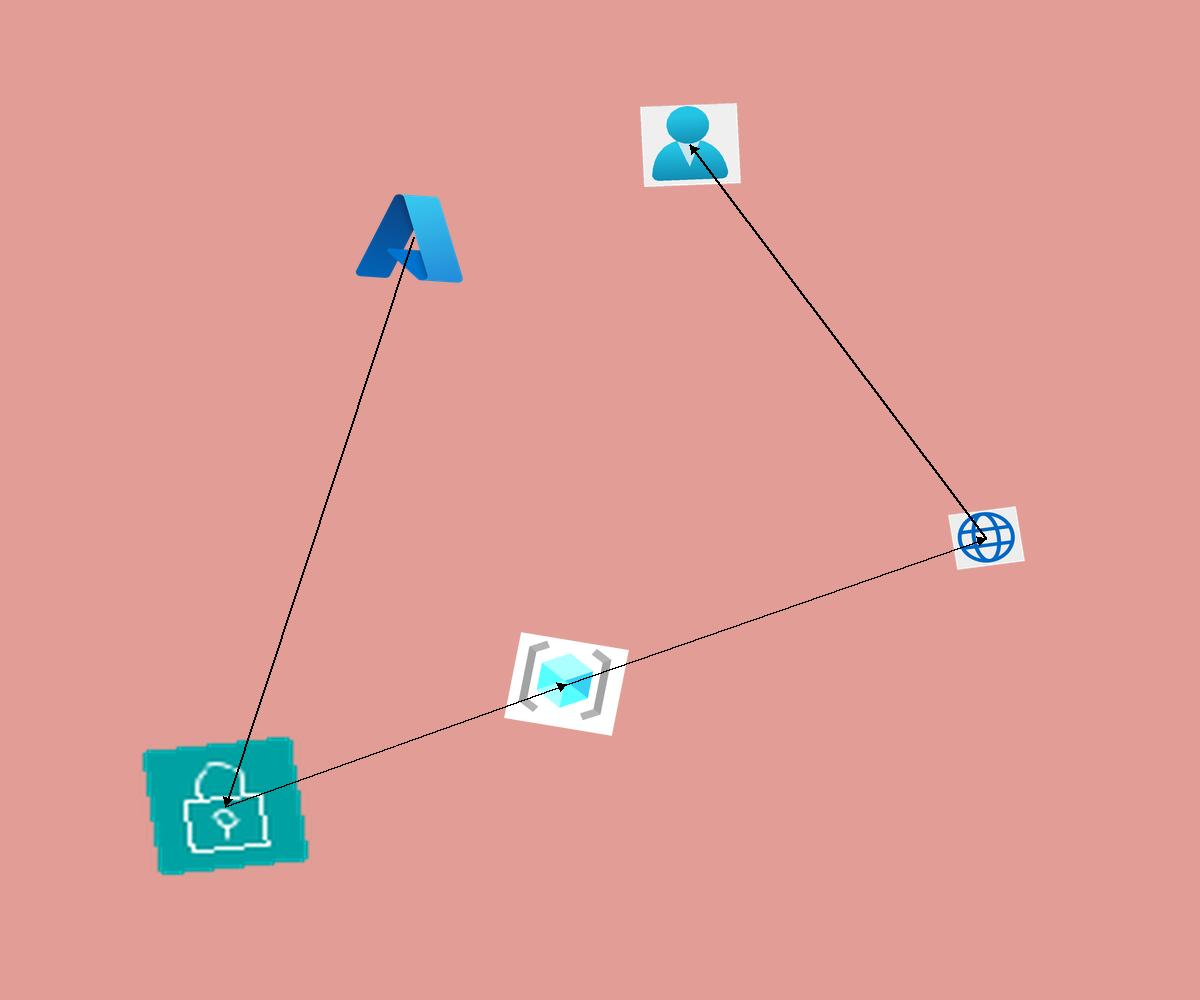AWS-Private-subnet: (139, 734, 312, 878)
Azure_http: (948, 506, 1025, 570)
Azure_resource_group: (504, 632, 629, 736)
Azure_services: (350, 185, 476, 290)
Azure_users: (640, 103, 741, 187)
